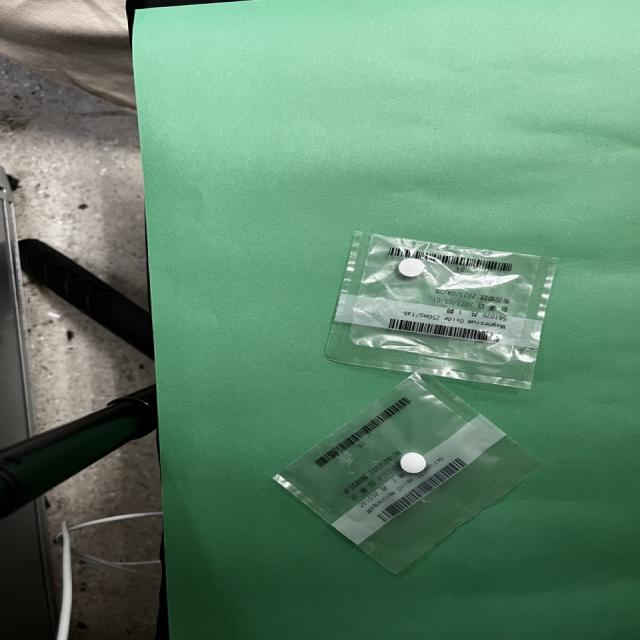Other Objects: (273, 373, 539, 574), (325, 232, 557, 389)
